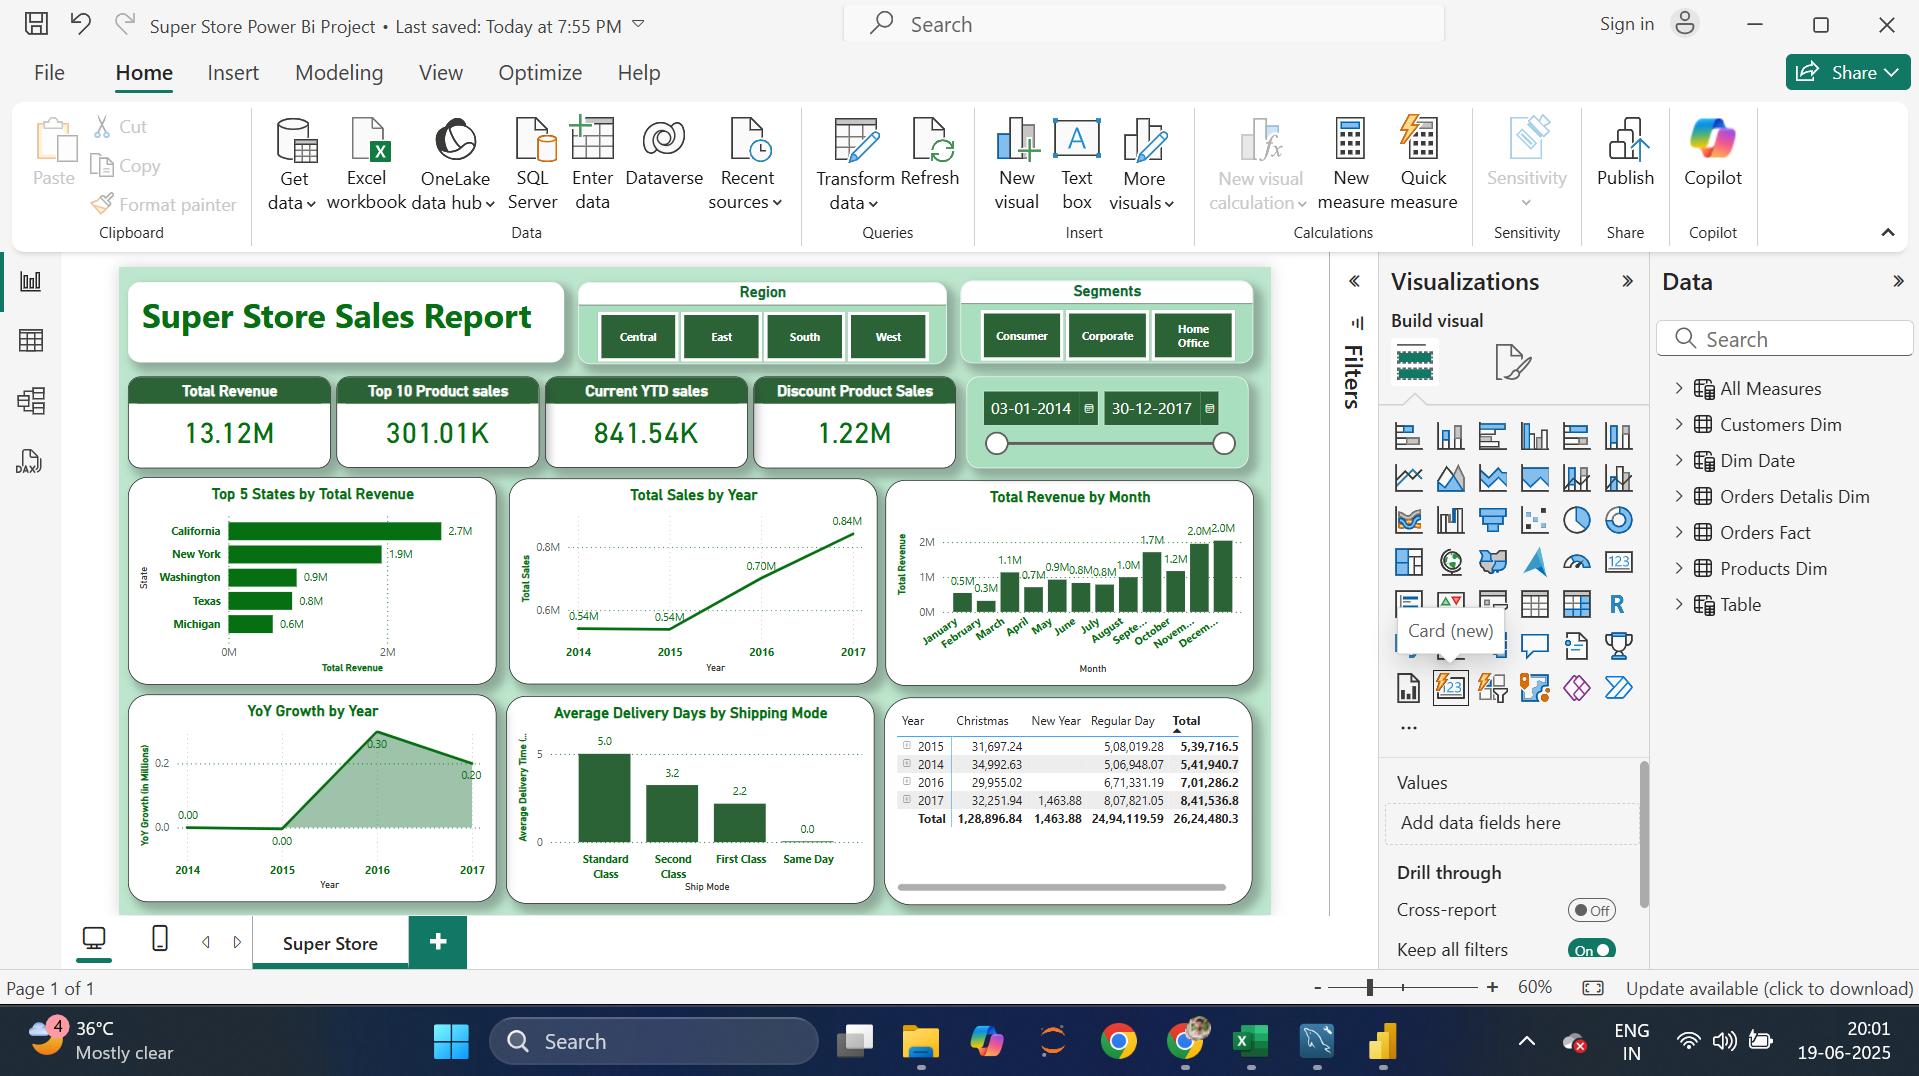

What the dashboard file says about the page in this screenshot:
{"tool":"powerbi","page":{"name":"Super Store","canvas":[1280,720],"ordinal":0},"visuals":[{"type":"card","title":"Total Revenue","fields":{"Values":["All Measures.Total Revenue"]},"box":[9.6,121.2,225,101.9],"z":0},{"type":"card","title":"Discount Product Sales","fields":{"Values":["Orders Fact.Dicsount product Sales"]},"box":[705.3,121.1,224.6,101.8],"z":1000},{"type":"card","title":"Current YTD sales","fields":{"Values":["All Measures.curreny ytd sales"]},"box":[473.1,121,225,101],"z":2000},{"type":"card","title":"Top 10 Product sales","fields":{"Values":["Orders Fact.Top 10 product sales"]},"box":[242.3,121,225,101],"z":3000},{"type":"barChart","title":" Top 5 States by Total Revenue","fields":{"Category":["Table.State"],"Y":["All Measures.Total Revenue"]},"box":[9.6,232.7,409.6,230.8],"z":4000},{"type":"textbox","box":[9.8,16.3,484.7,89.5],"z":5000},{"type":"slicer","title":"Region","fields":{"Values":["Orders Detalis Dim.Region"]},"box":[510.7,16.3,409.9,91.1],"z":6000},{"type":"slicer","title":"Segments","fields":{"Values":["Customers Dim.Segment"]},"box":[934.6,15.4,325,92.3],"z":7000},{"type":"lineChart","fields":{"Y":["All Measures.Total Sales"],"Category":["Dim Date.Date.Variation.Date Hierarchy.Year","Dim Date.Date.Variation.Date Hierarchy.Quarter","Dim Date.Date.Variation.Date Hierarchy.Month","Dim Date.Date.Variation.Date Hierarchy.Day"]},"box":[432.7,234.6,409.6,228.8],"z":8000},{"type":"columnChart","title":"Average Delivery Days by Shipping Mode","fields":{"Category":["Orders Detalis Dim.Ship Mode"],"Y":["Orders Fact.Average No.of days takes to delevery shipments"]},"box":[430.8,476.9,409.6,230.8],"z":9000},{"type":"lineChart","title":"YoY Growth  by Year","fields":{"Y":["All Measures.YoY Growth (Alternative)"],"Category":["Dim Date.Date.Variation.Date Hierarchy.Year"]},"box":[9.6,475,409.6,230.8],"z":10000},{"type":"columnChart","fields":{"Category":["Dim Date.Date.Variation.Date Hierarchy.Month","Dim Date.Date.Variation.Date Hierarchy.Day"],"Y":["All Measures.Total Revenue"]},"box":[851.9,236.5,409.6,228.8],"z":11000},{"type":"pivotTable","fields":{"Rows":["Dim Date.Date.Variation.Date Hierarchy.Year","Dim Date.Date.Variation.Date Hierarchy.Quarter","Dim Date.Date.Variation.Date Hierarchy.Month","Dim Date.Date.Variation.Date Hierarchy.Day"],"Columns":["Dim Date.Festival"],"Values":["All Measures.Total Sales"]},"box":[850,478.8,409.6,230.8],"z":12000},{"type":"slicer","title":"huy","fields":{"Values":["Dim Date.Date"]},"box":[942.3,121.2,313.5,101.9],"z":13000}]}

Visuals, with their boxes on the page's 1280x720 design canvas (x1, y1, x2, y2). These are canvas units, not pixel positions in the 1919x1076 screenshot, which may show the page scaled, cropped or inside an application window:
"Total Revenue" card: 10, 121, 235, 223
"Discount Product Sales" card: 705, 121, 930, 223
"Current YTD sales" card: 473, 121, 698, 222
"Top 10 Product sales" card: 242, 121, 467, 222
" Top 5 States by Total Revenue" barChart: 10, 233, 419, 464
textbox: 10, 16, 494, 106
"Region" slicer: 511, 16, 921, 107
"Segments" slicer: 935, 15, 1260, 108
lineChart - All Measures.Total Sales x Dim Date.Date.Variation.Date Hierarchy.Year: 433, 235, 842, 463
"Average Delivery Days by Shipping Mode" columnChart: 431, 477, 840, 708
"YoY Growth  by Year" lineChart: 10, 475, 419, 706
columnChart - Dim Date.Date.Variation.Date Hierarchy.Month x Dim Date.Date.Variation.Date Hierarchy.Day: 852, 236, 1262, 465
pivotTable - Dim Date.Date.Variation.Date Hierarchy.Year x Dim Date.Date.Variation.Date Hierarchy.Quarter: 850, 479, 1260, 710
"huy" slicer: 942, 121, 1256, 223
